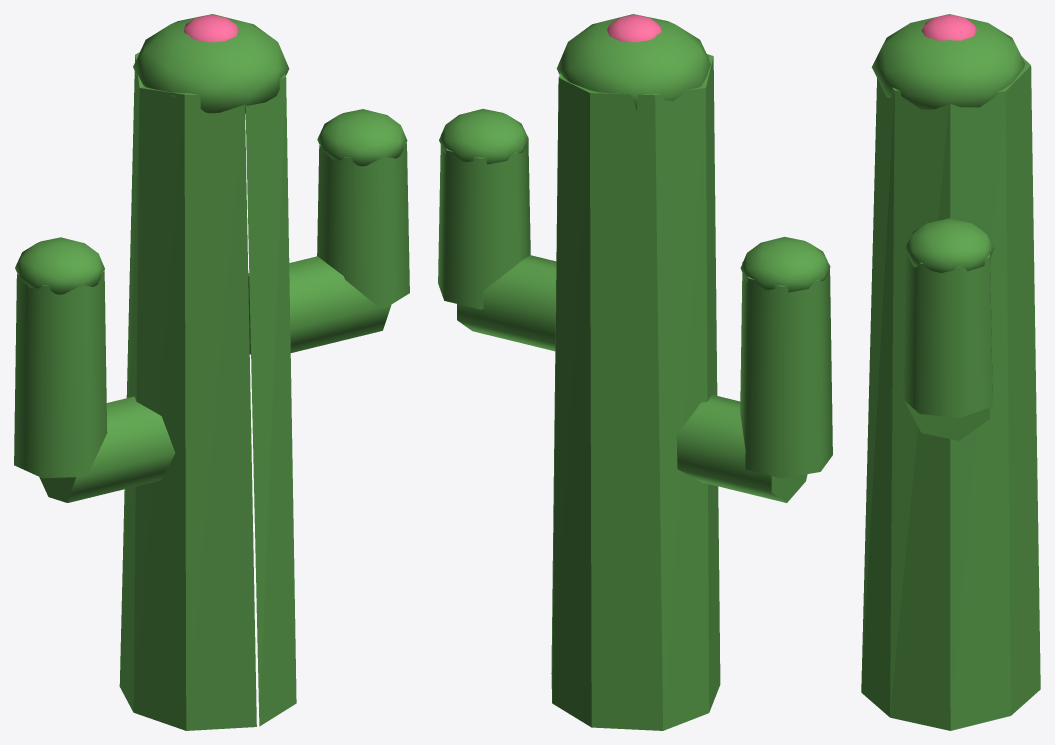
File: cardon_cactus.glb
3 views of the same model, side by side, from view 1: azimuth 30°, elevation 25°; view 2: azimuth 150°, elevation 25°; view 3: azimuth 270°, elevation 25° (orthographic).
Visible parts, largest first — view 1: tronco, brazo_1, brazo_2, punta, codo_1, codo_2, brazo_punta_2, brazo_punta_1, flor; view 2: tronco, brazo_1, brazo_2, punta, codo_1, codo_2, brazo_punta_1, brazo_punta_2, flor; view 3: tronco, brazo_2, punta, brazo_punta_2, codo_2, flor.
Part boxes in pixels (<box>): tronco: <box>119,52,296,730</box>; brazo_1: <box>14,270,107,478</box>; brazo_2: <box>317,142,409,307</box>; punta: <box>133,14,289,113</box>; codo_1: <box>39,396,175,502</box>; codo_2: <box>248,256,391,354</box>; brazo_punta_2: <box>317,109,407,166</box>; brazo_punta_1: <box>15,237,104,294</box>; flor: <box>183,14,238,42</box>; tronco: <box>551,54,720,730</box>; brazo_1: <box>740,262,832,478</box>; brazo_2: <box>438,134,530,309</box>; punta: <box>556,14,712,110</box>; codo_1: <box>676,394,807,502</box>; codo_2: <box>457,255,556,351</box>; brazo_punta_1: <box>740,236,830,292</box>; brazo_punta_2: <box>439,108,528,164</box>; flor: <box>607,14,661,42</box>; tronco: <box>861,57,1040,730</box>; brazo_2: <box>901,249,992,417</box>; punta: <box>871,14,1025,109</box>; brazo_punta_2: <box>905,218,993,272</box>; codo_2: <box>904,400,989,440</box>; flor: <box>921,14,977,40</box>.
Bounding box in the file's own units: 1.47 × 2.48 × 0.5999.
